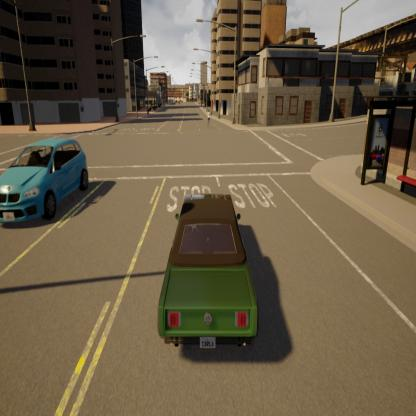Cars: (150, 183, 265, 360), (0, 136, 93, 230)
